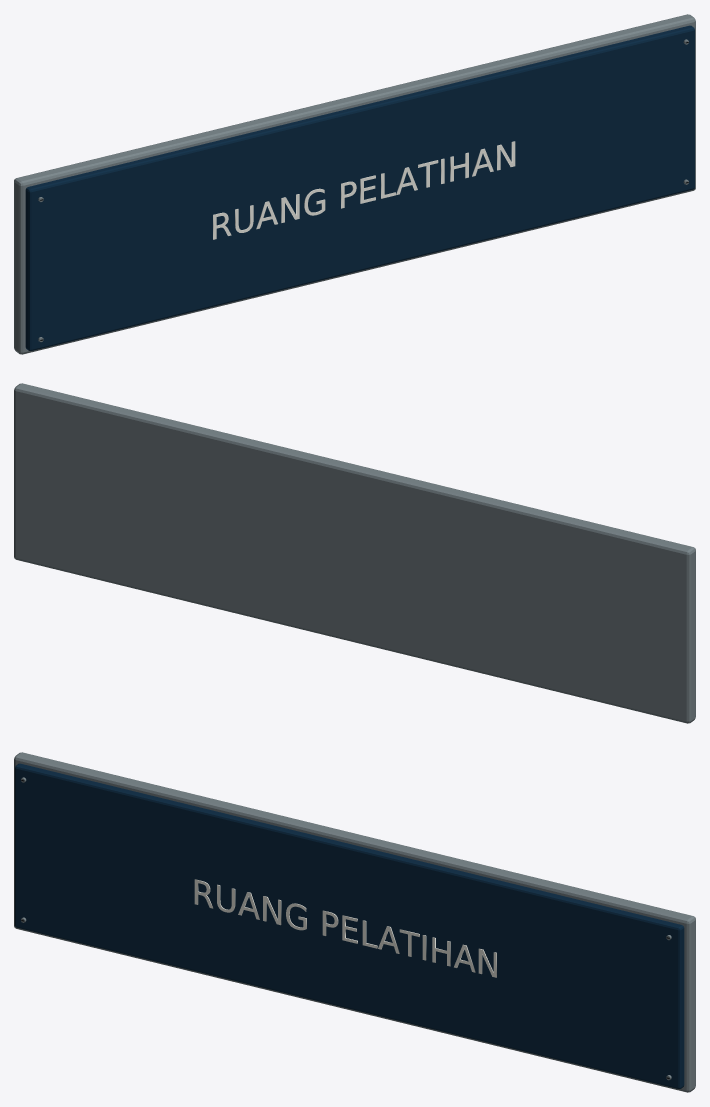
File: OAA_Papan_Ruang_Ruang_Pelatihan.fbx
The picture shows the model from 3 angles, top to bottom: view 1: azimuth 30°, elevation 25°; view 2: azimuth 150°, elevation 25°; view 3: azimuth 330°, elevation 25°; orthographic projection.
Visible parts, largest first — view 1: Body; view 2: Body; view 3: Body.
Part boxes in pixels (box(x1,y1,x2,y2)): Body: box(14, 14, 695, 354); Body: box(14, 383, 695, 723); Body: box(14, 752, 695, 1092).
Size of the model in its own units: 0.9 by 0.22 by 0.0312.
